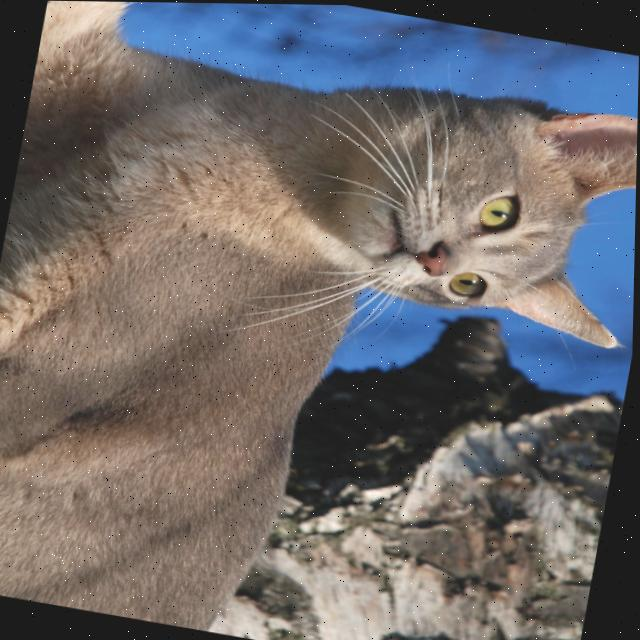Abyssinian: (0, 5, 640, 640)
